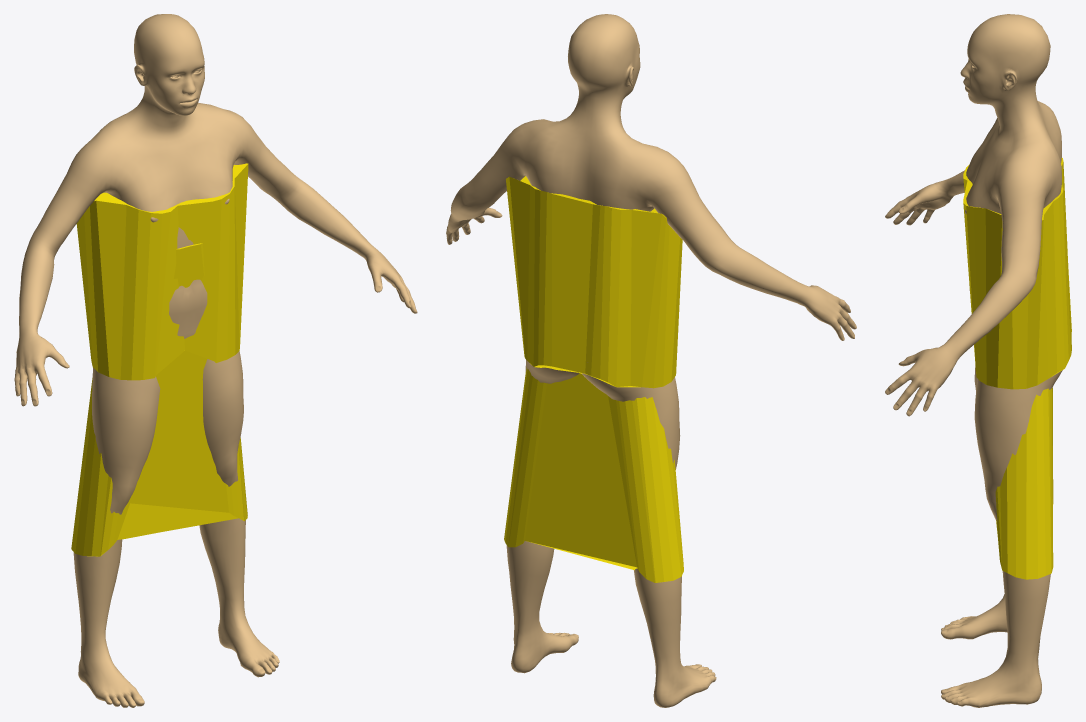
3 renders of one model, left to right at view 1: azimuth 30°, elevation 25°; view 2: azimuth 150°, elevation 25°; view 3: azimuth 270°, elevation 25°, orthographic.
Parts seen in each view (by area): view 1: Human, Clothing_Shirt, Clothing_Dress; view 2: Human, Clothing_Shirt, Clothing_Dress; view 3: Human, Clothing_Shirt, Clothing_Dress.
Boxes of the visible parts, x1=… form: Human: x1=14, y1=14, x2=417, y2=707; Clothing_Shirt: x1=76, y1=163, x2=248, y2=380; Clothing_Dress: x1=71, y1=243, x2=247, y2=556; Human: x1=446, y1=14, x2=856, y2=707; Clothing_Shirt: x1=506, y1=176, x2=682, y2=388; Clothing_Dress: x1=504, y1=367, x2=683, y2=582; Human: x1=885, y1=14, x2=1062, y2=707; Clothing_Shirt: x1=963, y1=158, x2=1071, y2=389; Clothing_Dress: x1=995, y1=387, x2=1053, y2=579.
Size of the model in its own units: 1.08 by 1.71 by 0.4449.
